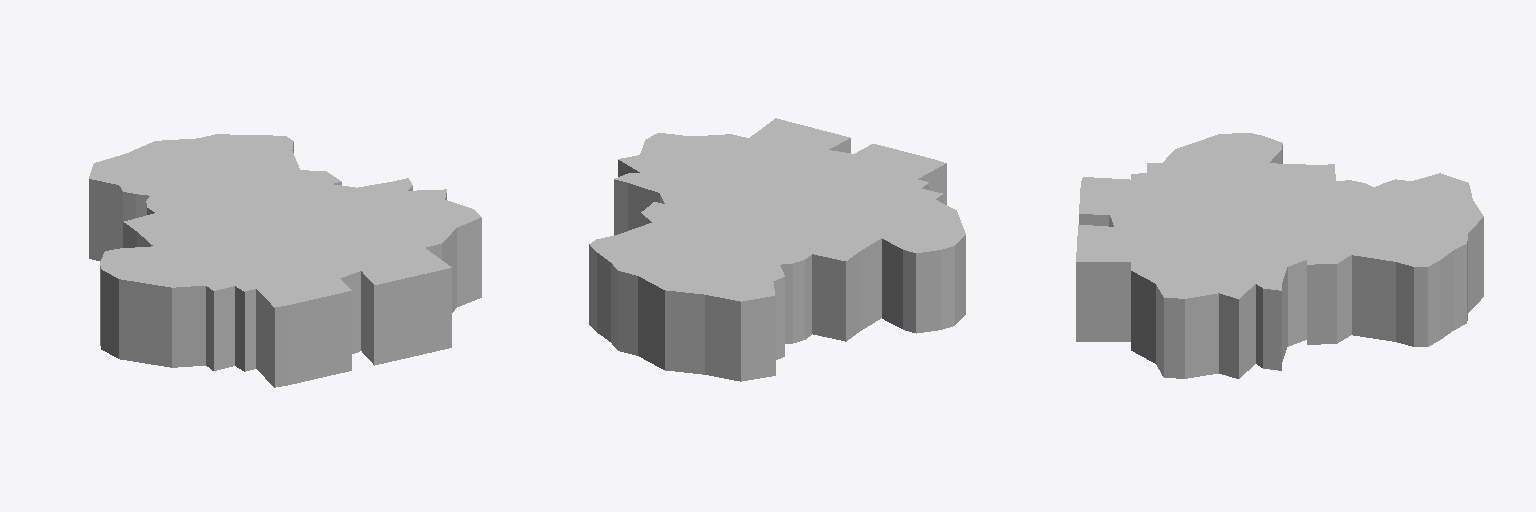
File: chogtank.obj
The picture shows the model from 3 angles: view 1: azimuth 30°, elevation 25°; view 2: azimuth 150°, elevation 25°; view 3: azimuth 270°, elevation 25°; orthographic projection.
Visible parts, largest first — view 1: chog; view 2: chog; view 3: chog.
Boxes of the visible parts, x1=… form: chog: x1=89, y1=134, x2=481, y2=387; chog: x1=589, y1=118, x2=965, y2=381; chog: x1=1076, y1=133, x2=1483, y2=378.
Size of the model in its own units: 0.8923 by 0.2 by 0.9236.